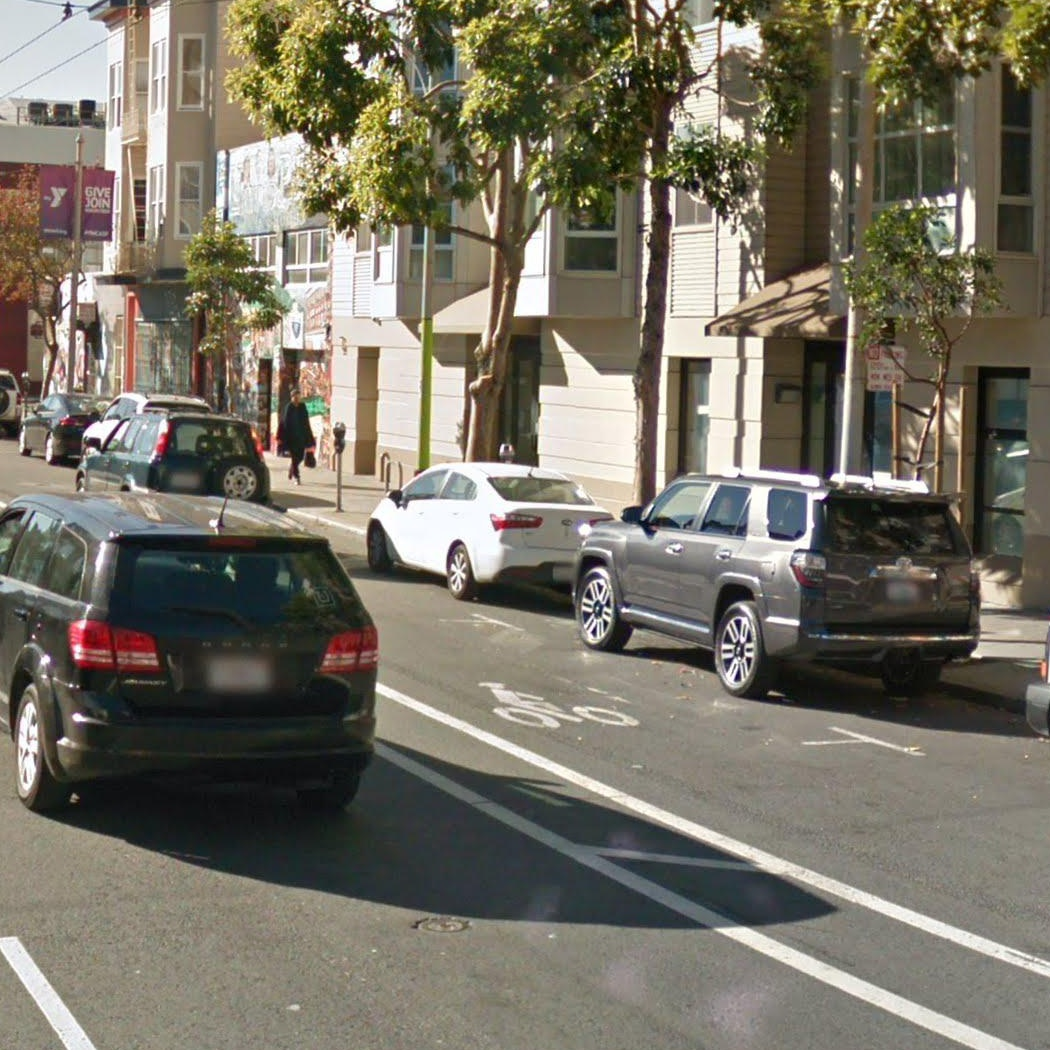No Parking: (864, 343, 908, 394)
